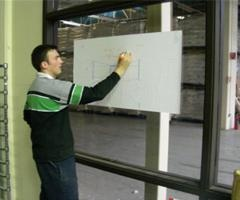person without safety: (23, 42, 87, 200)
